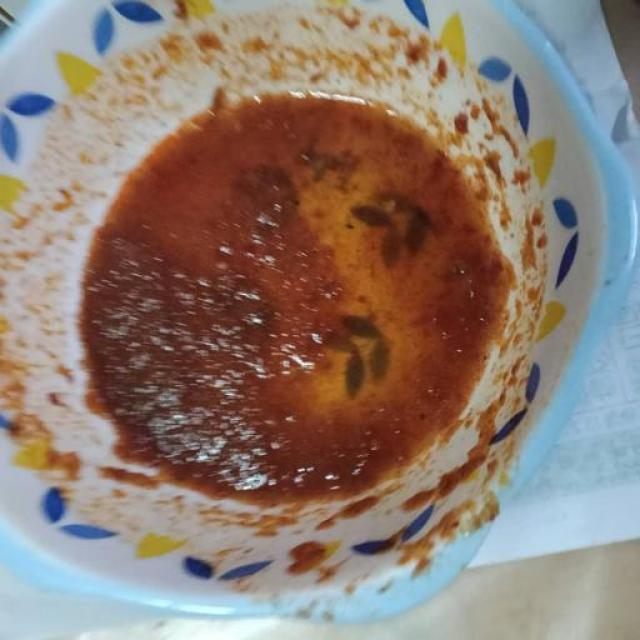organic: (82, 95, 511, 502)
